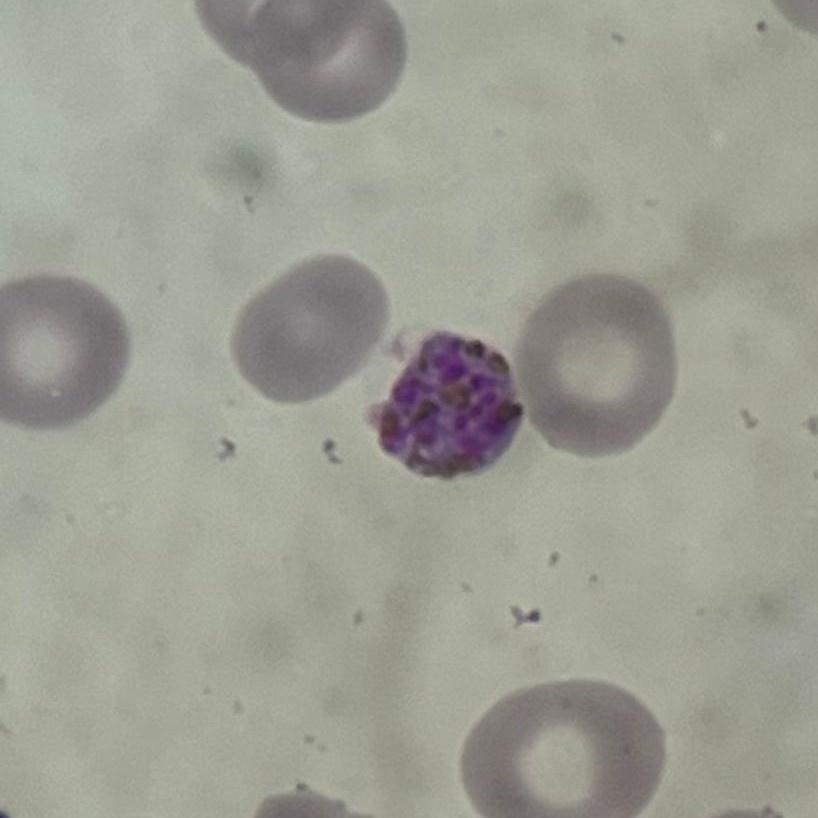Infected: (338, 381, 487, 520)
Uninfected: (0, 457, 143, 661), (357, 522, 543, 672), (415, 231, 559, 393), (388, 0, 548, 133)
